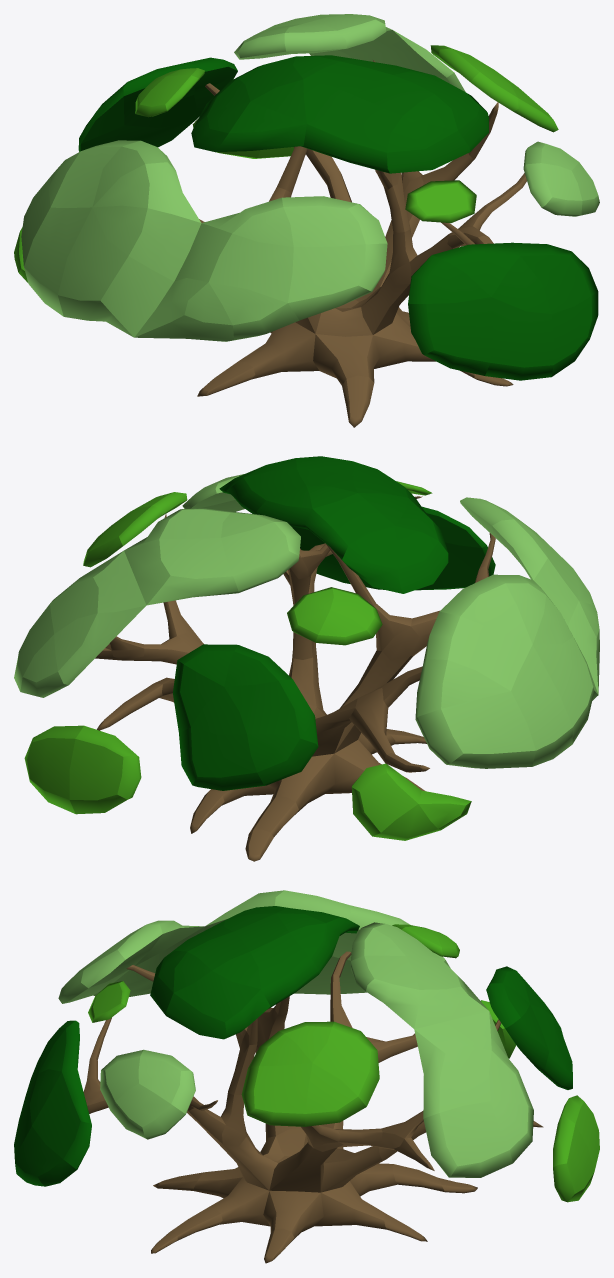
File: Tree_11.fbx
3 renders of one model, top to bottom at view 1: azimuth 30°, elevation 25°; view 2: azimuth 150°, elevation 25°; view 3: azimuth 270°, elevation 25°, orthographic. The views are drawn at different scales.
Parts seen in each view (by area): view 1: Tree_11; view 2: Tree_11; view 3: Tree_11.
Part boxes in pixels (bbox=[...]): Tree_11: bbox=[14, 14, 599, 427]; Tree_11: bbox=[14, 456, 599, 861]; Tree_11: bbox=[14, 890, 599, 1263].
Bounding box in the file's own units: 546 × 336 × 611.
